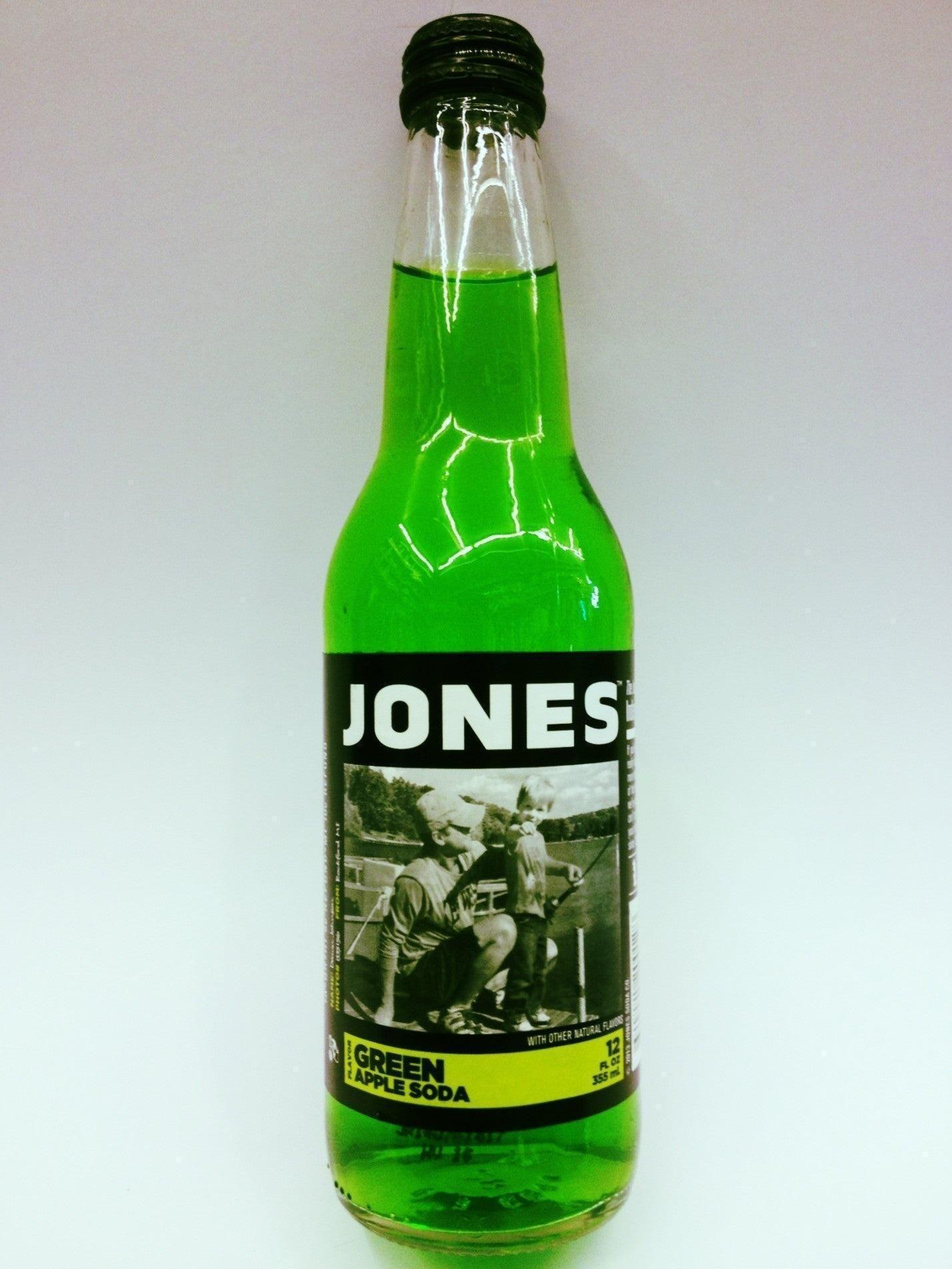bottle-glass: (313, 7, 649, 1267)
